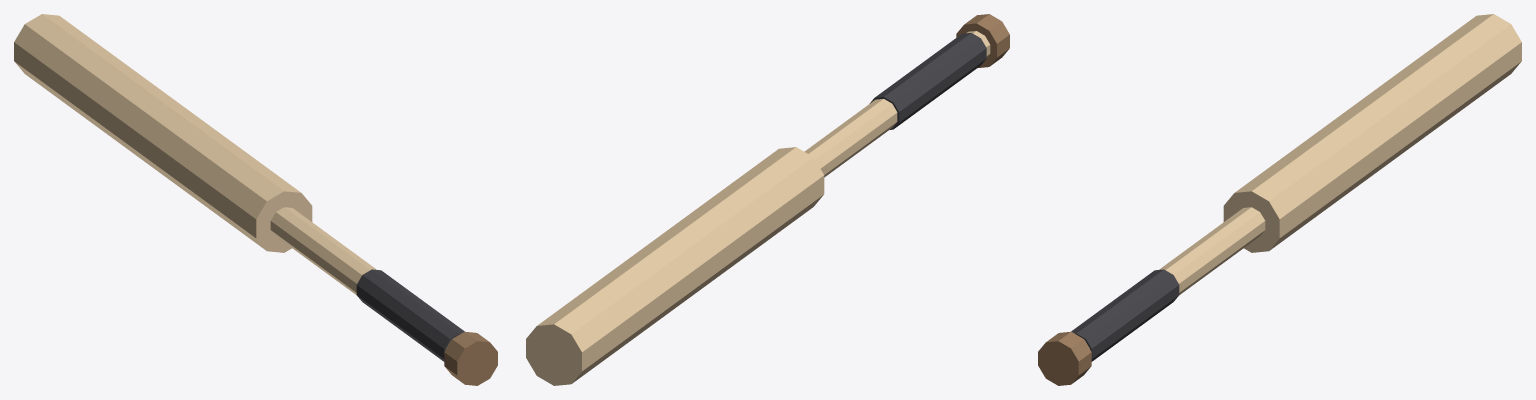
File: baseball_bat.glb
3 renders of one model, left to right at view 1: azimuth 30°, elevation 25°; view 2: azimuth 150°, elevation 25°; view 3: azimuth 330°, elevation 25°, orthographic.
Visible parts, largest first — view 1: baseball_bat; view 2: baseball_bat; view 3: baseball_bat.
Part boxes in pixels (box(x1,y1,x2,y2)): baseball_bat: box(14, 14, 497, 385); baseball_bat: box(526, 14, 1009, 385); baseball_bat: box(1038, 14, 1521, 385).
Bounding box in the file's own units: 0.0628 × 0.066 × 0.845.
